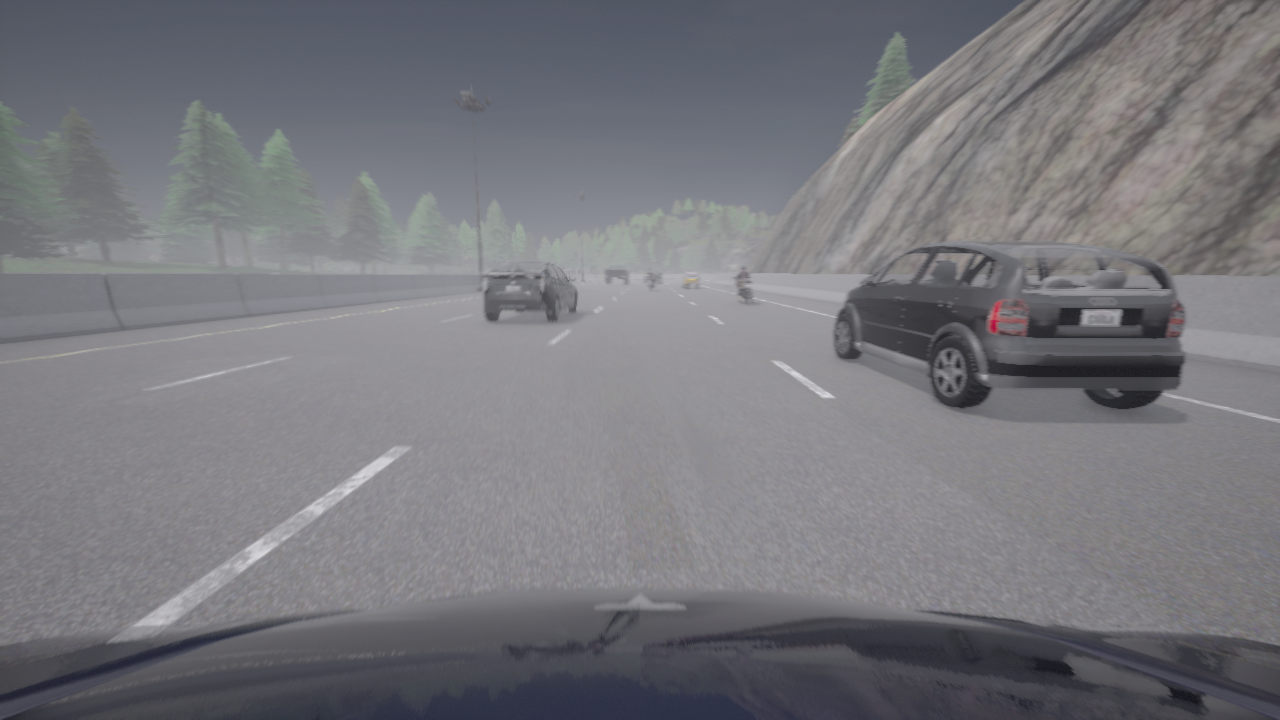cyclist: (0, 588, 1279, 719), (834, 241, 1184, 409), (483, 261, 577, 321), (732, 276, 751, 304), (604, 265, 629, 284), (683, 272, 699, 288), (644, 270, 661, 282), (647, 279, 653, 291)
